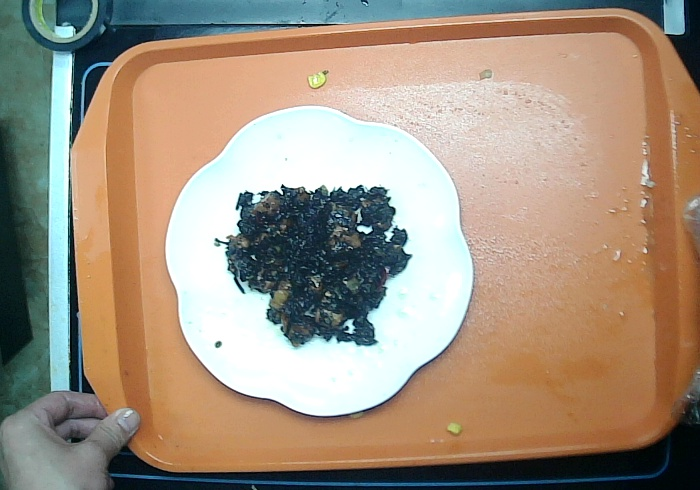HZYJPL-Bai_Se_Hua_Duo_Wan: (161, 106, 469, 416)
